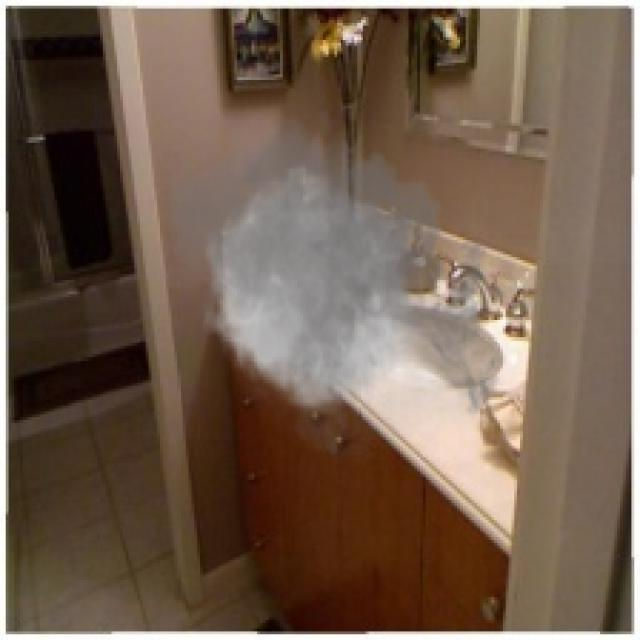Smoke: (154, 102, 512, 478)
